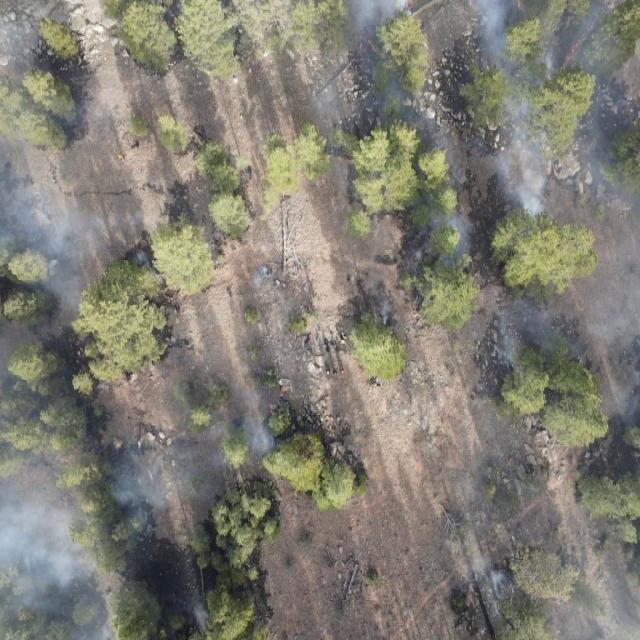fire: (555, 38, 582, 70), (366, 36, 378, 53), (512, 0, 525, 10), (278, 386, 286, 396)
smoke: (316, 1, 482, 270), (0, 360, 158, 640), (482, 0, 640, 225), (0, 0, 109, 306), (502, 238, 640, 384), (119, 412, 292, 518), (463, 551, 640, 640), (363, 268, 397, 329), (247, 259, 279, 296)
